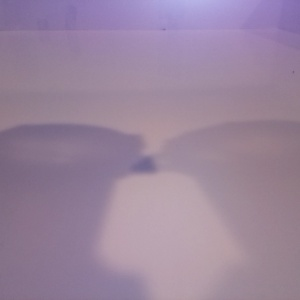alive_ball: (1, 19, 36, 91)
dead_ball: (43, 20, 83, 60)
